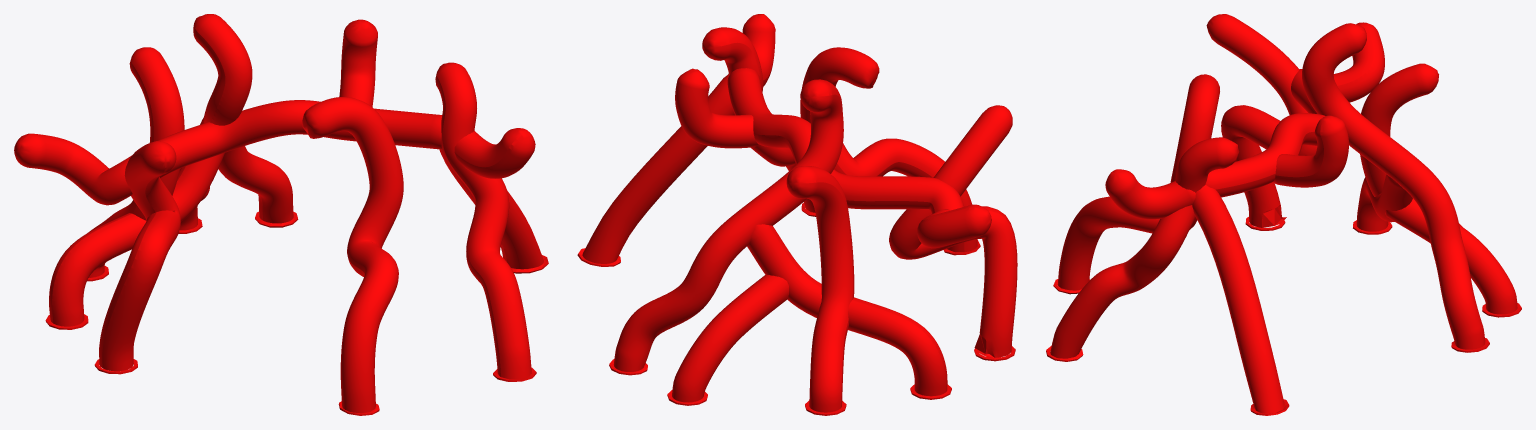
Rendered from asset.glb.
3 renders of one model, left to right at view 1: azimuth 30°, elevation 25°; view 2: azimuth 150°, elevation 25°; view 3: azimuth 270°, elevation 25°, orthographic. The views are drawn at different scales.
Visible parts, largest first — view 1: Simonet; view 2: Simonet; view 3: Simonet.
Boxes of the visible parts, <box> form: Simonet: <box>14,14,548,415</box>; Simonet: <box>577,14,1017,415</box>; Simonet: <box>1046,14,1521,415</box>.
Size of the model in its own units: 20.26 by 11.47 by 18.85.
